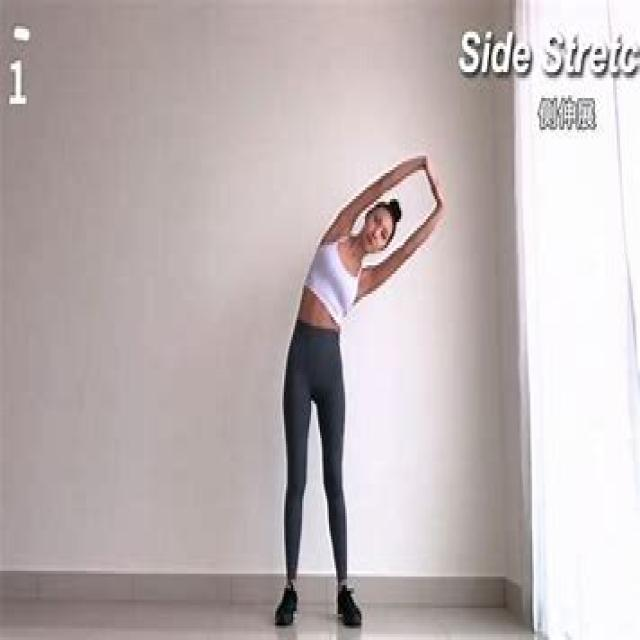stand: (270, 182, 429, 626)
